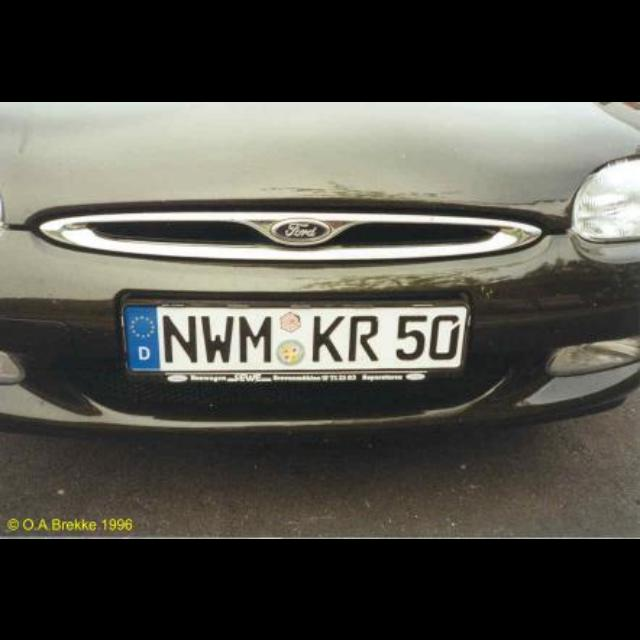d_license_plate: (122, 300, 464, 366)
